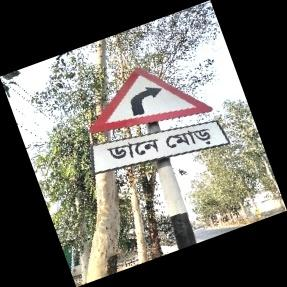Right-turn: (89, 66, 230, 174)
